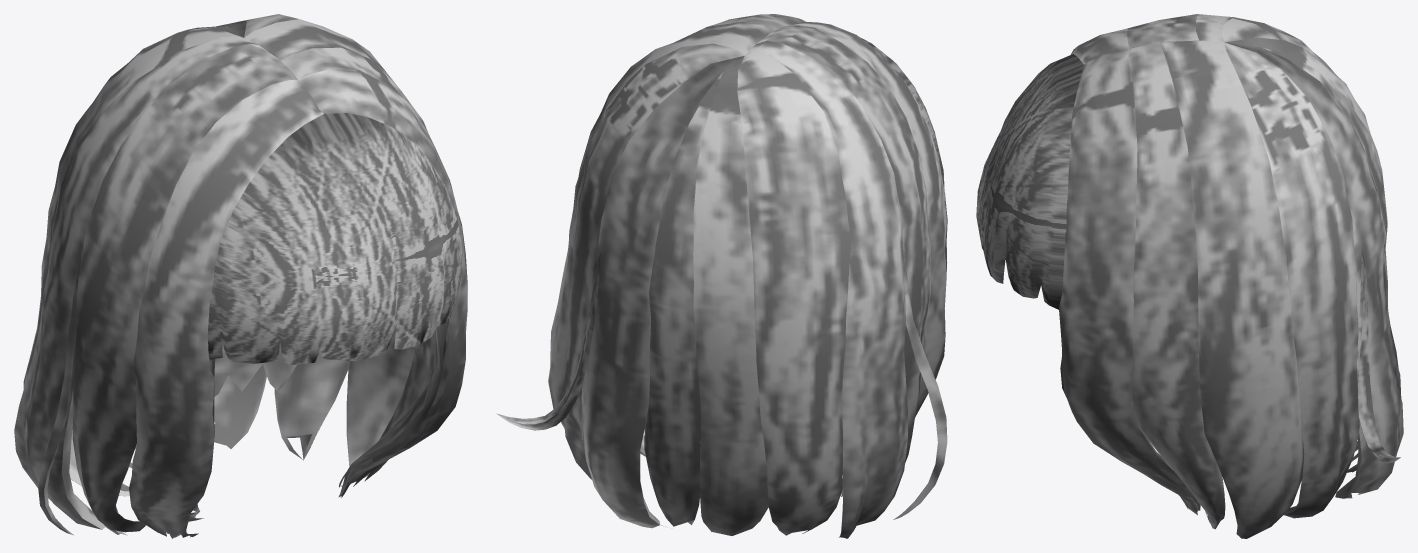
File: hair_bob01.glb
The picture shows the model from 3 angles, left to right: view 1: azimuth 30°, elevation 25°; view 2: azimuth 150°, elevation 25°; view 3: azimuth 270°, elevation 25°; orthographic projection. The views are drawn at different scales.
Visible parts, largest first — view 1: hair_bob01; view 2: hair_bob01; view 3: hair_bob01.
Boxes of the visible parts, x1,y1,x2,y2 form: hair_bob01: [14, 14, 467, 538]; hair_bob01: [496, 14, 947, 538]; hair_bob01: [976, 14, 1403, 538].
Bounding box in the file's own units: 0.2148 × 0.2425 × 0.2113.
Materials: 1 (1 with a texture image).
